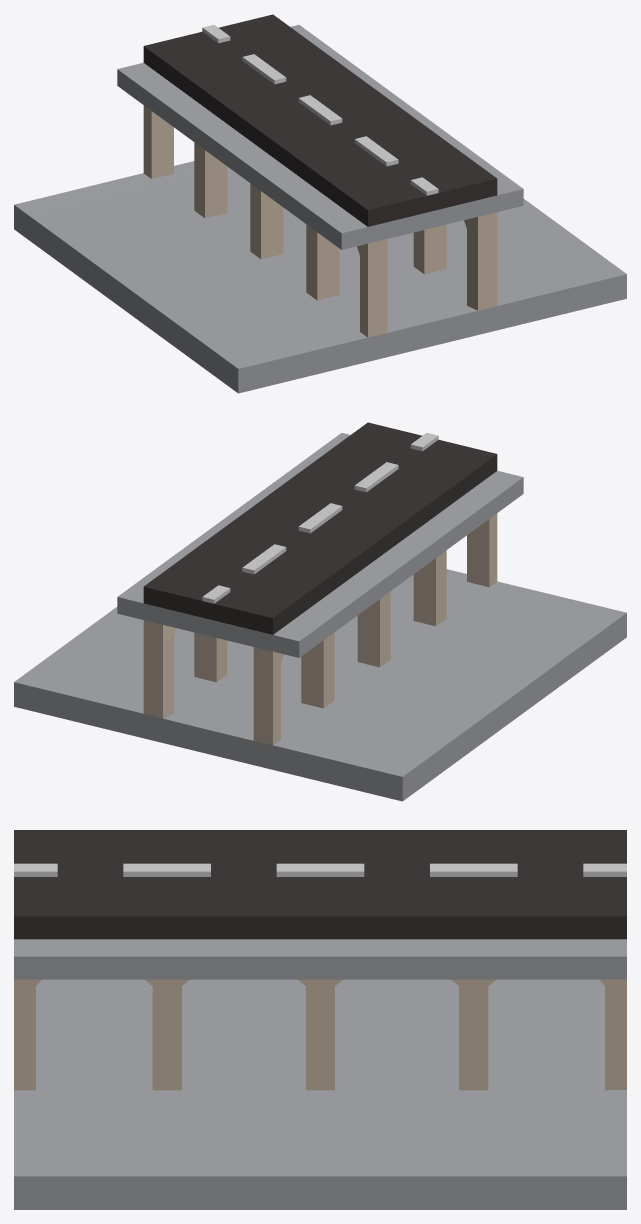
File: quaternius-street-street-bridge.glb
The picture shows the model from 3 angles, top to bottom: view 1: azimuth 30°, elevation 25°; view 2: azimuth 150°, elevation 25°; view 3: azimuth 270°, elevation 25°; orthographic projection. The views are drawn at different scales.
Visible parts, largest first — view 1: Street_Bridge; view 2: Street_Bridge; view 3: Street_Bridge.
Part boxes in pixels (left/top/right/bottom): Street_Bridge: left=14, top=14, right=626, bottom=393; Street_Bridge: left=14, top=422, right=626, bottom=801; Street_Bridge: left=14, top=830, right=626, bottom=1209.
Bounding box in the file's own units: 2 × 0.766 × 2.
